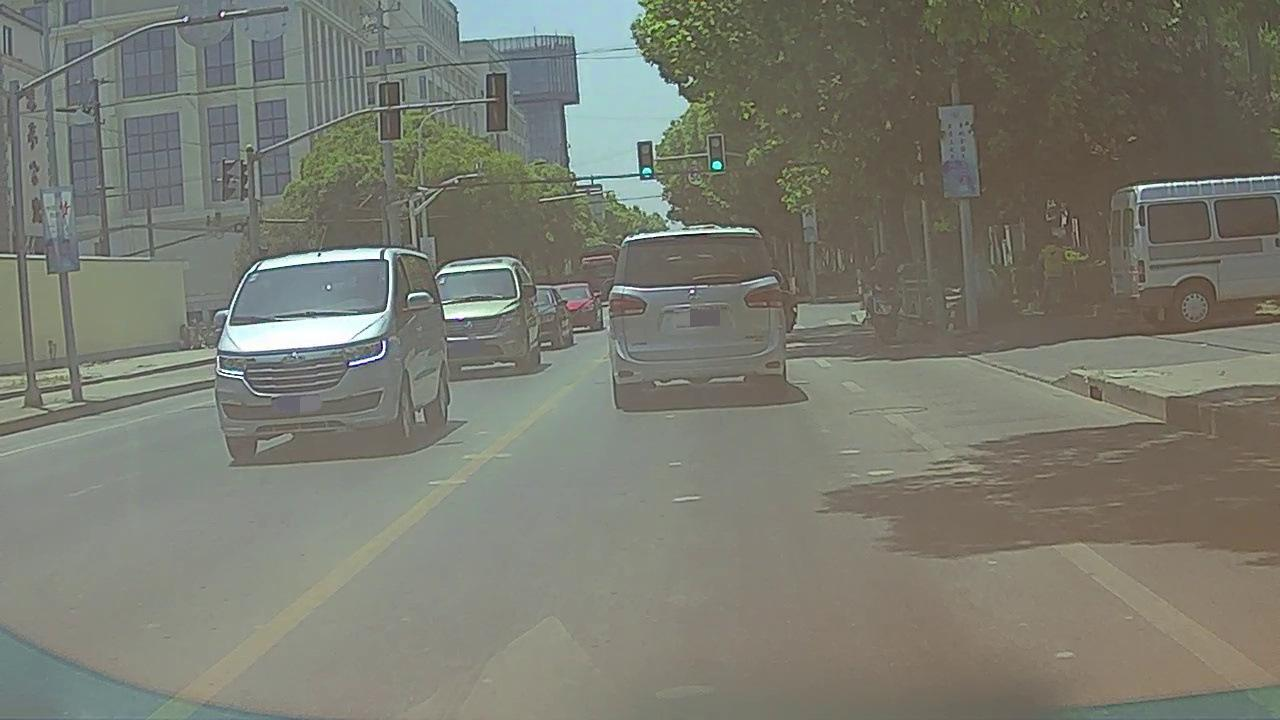traffic_light: (637, 141, 654, 181), (709, 136, 724, 172)
